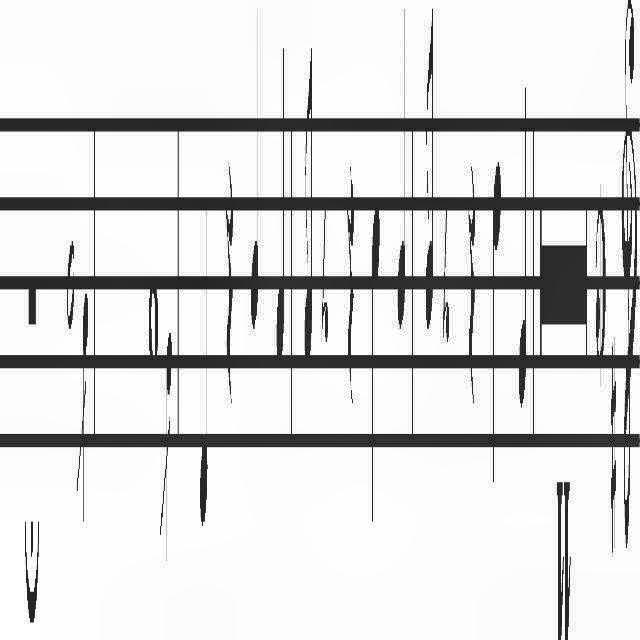Bass-clef: (621, 0, 638, 556)
Diez: (610, 320, 618, 574)
Eighth-rest: (442, 184, 450, 364), (322, 188, 328, 356)
Full-note: (148, 280, 160, 378)
Half-note: (66, 0, 76, 342)
Quarter-note: (519, 70, 529, 422), (250, 9, 260, 338), (372, 188, 381, 522), (398, 4, 407, 328), (200, 188, 208, 536), (278, 31, 286, 373), (492, 157, 500, 495)
Quarter-rest: (224, 148, 234, 412), (468, 162, 477, 408), (346, 162, 354, 408)
